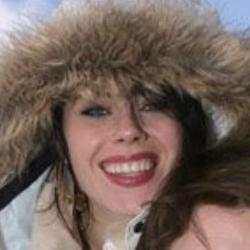face: (7, 7, 213, 233)
